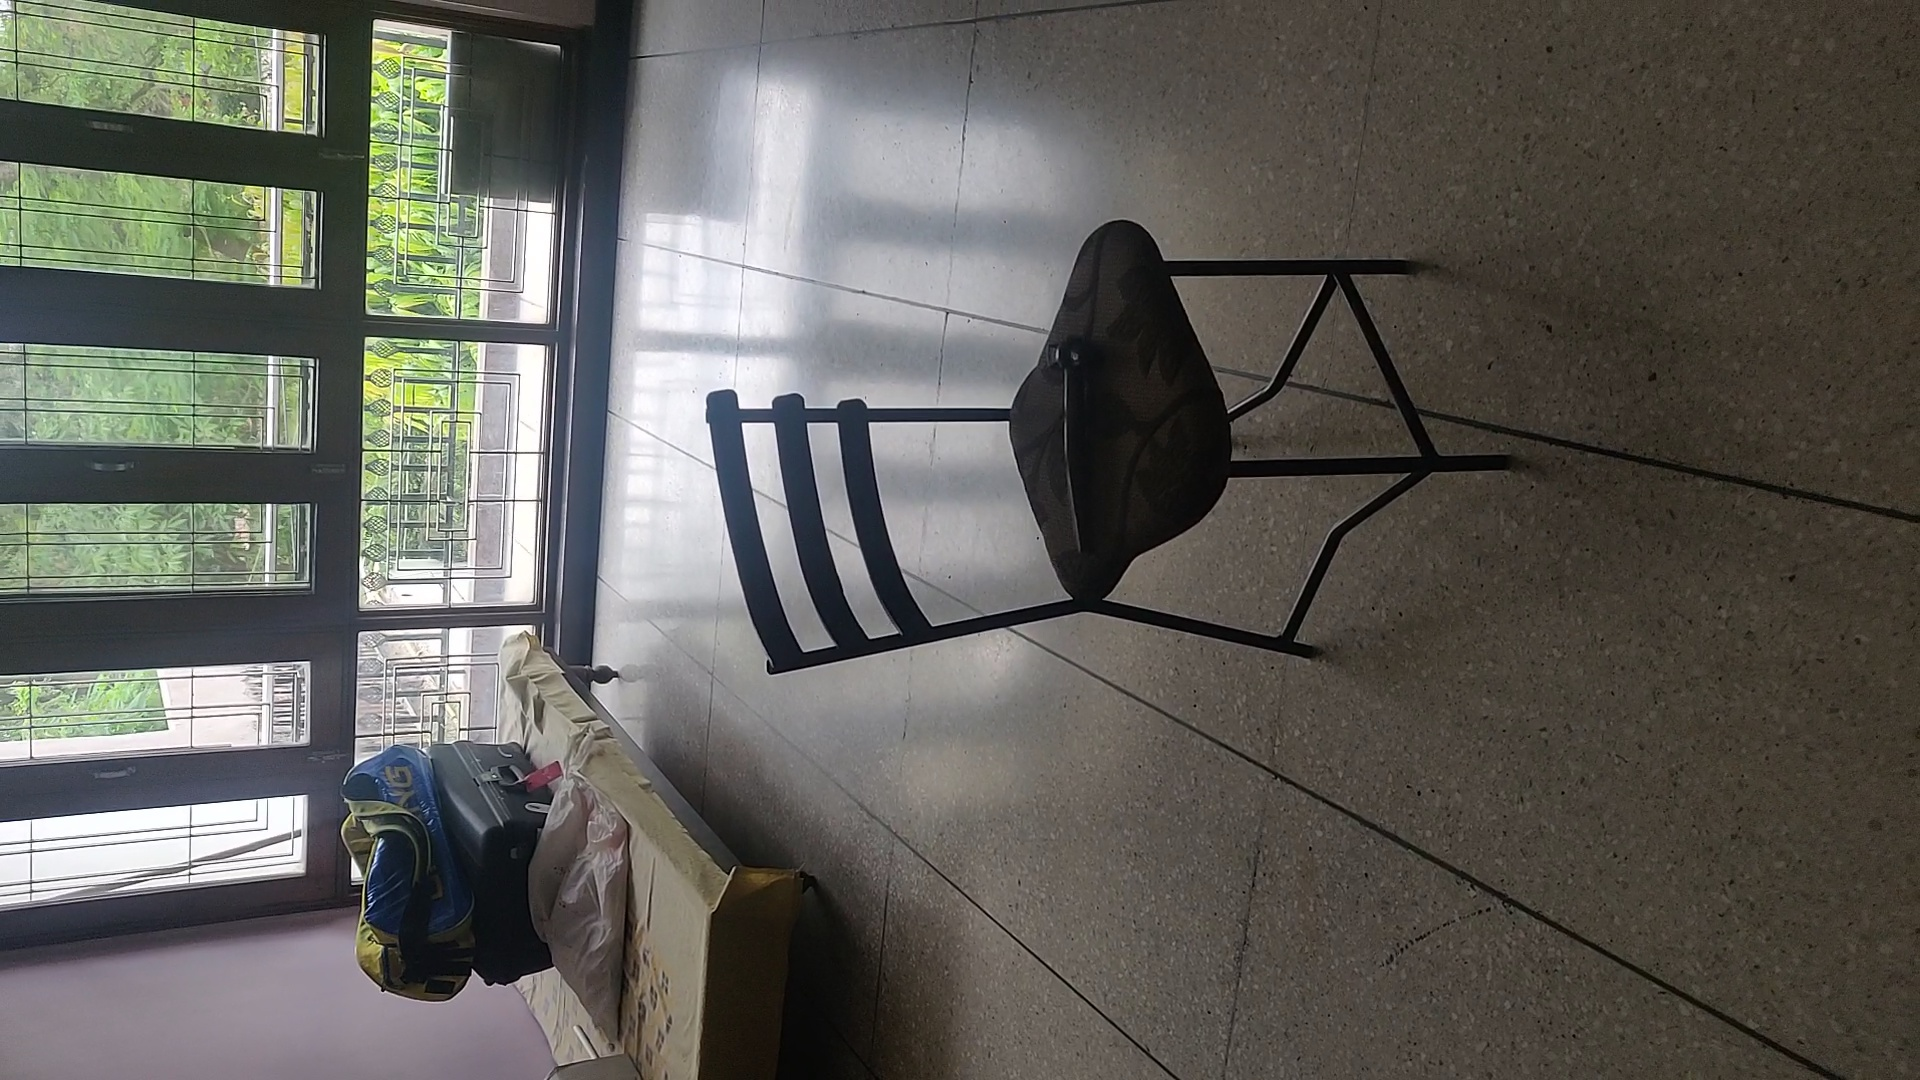hammer: (1042, 336, 1122, 558)
